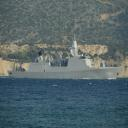Fragata: (7, 31, 125, 81)
